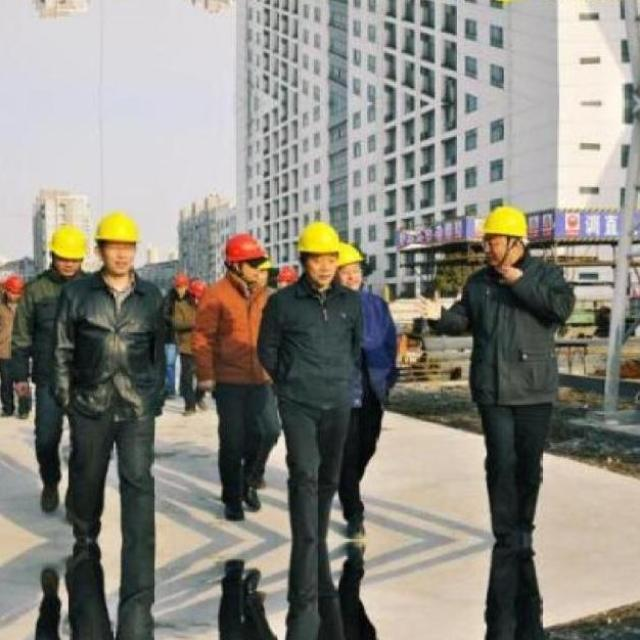red helmet: (227, 237, 267, 265), (3, 276, 21, 300), (193, 282, 211, 299), (177, 272, 192, 287), (282, 267, 296, 283)
yellow helmet: (481, 203, 531, 239), (294, 220, 343, 253), (95, 215, 143, 247), (52, 225, 88, 263), (337, 238, 368, 266)
